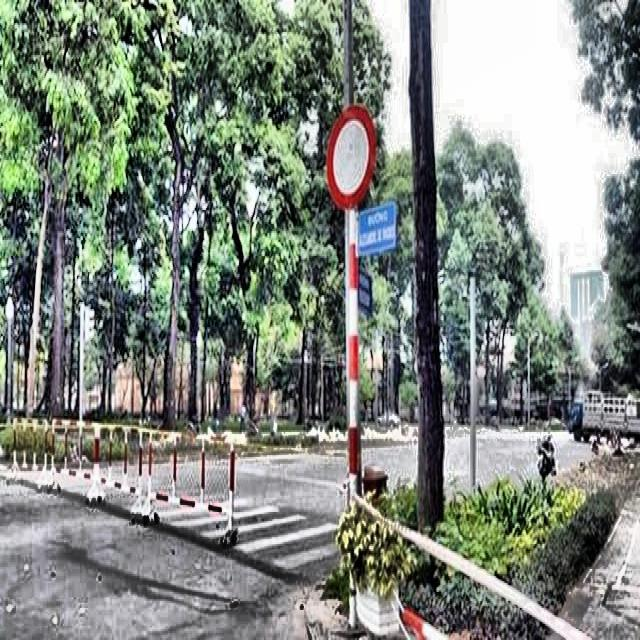Bien_bao_duong_cam: (324, 100, 378, 212)
